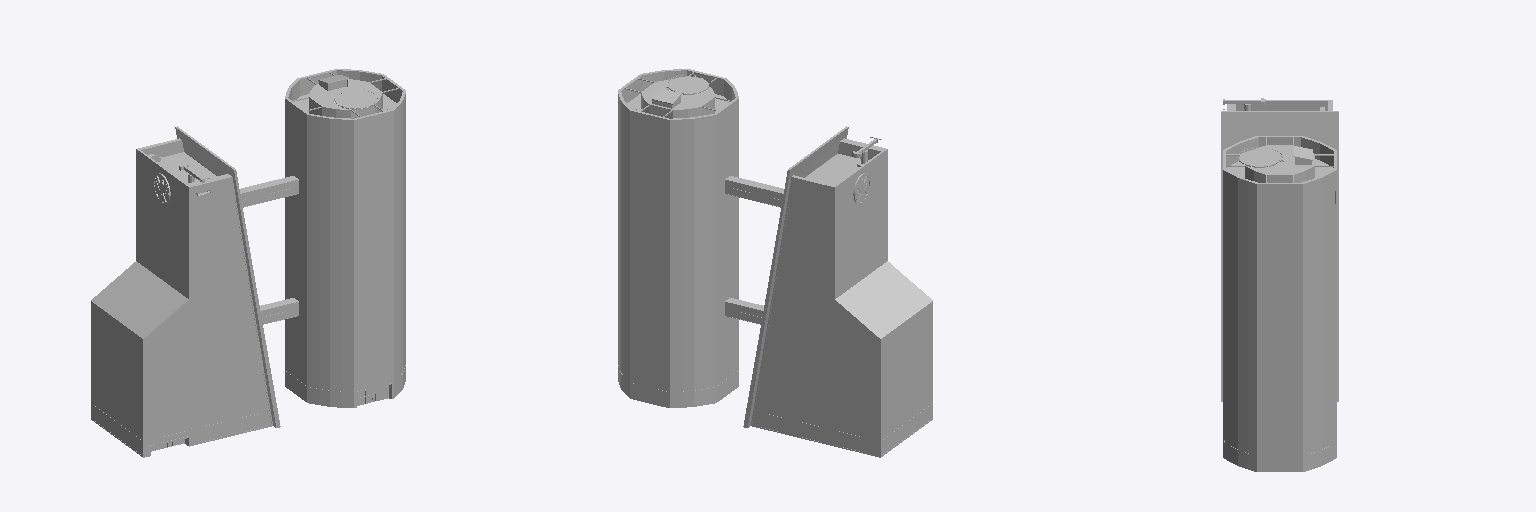
File: shield.obj
The picture shows the model from 3 angles: view 1: azimuth 30°, elevation 25°; view 2: azimuth 150°, elevation 25°; view 3: azimuth 270°, elevation 25°; orthographic projection.
Parts seen in each view (by area): view 1: Building__0; view 2: Building__0; view 3: Building__0.
Boxes of the visible parts, <box> form: Building__0: <box>91,69,405,457</box>; Building__0: <box>618,69,932,457</box>; Building__0: <box>1221,98,1338,471</box>.
Size of the model in its own units: 42.57 by 43.48 by 15.59.